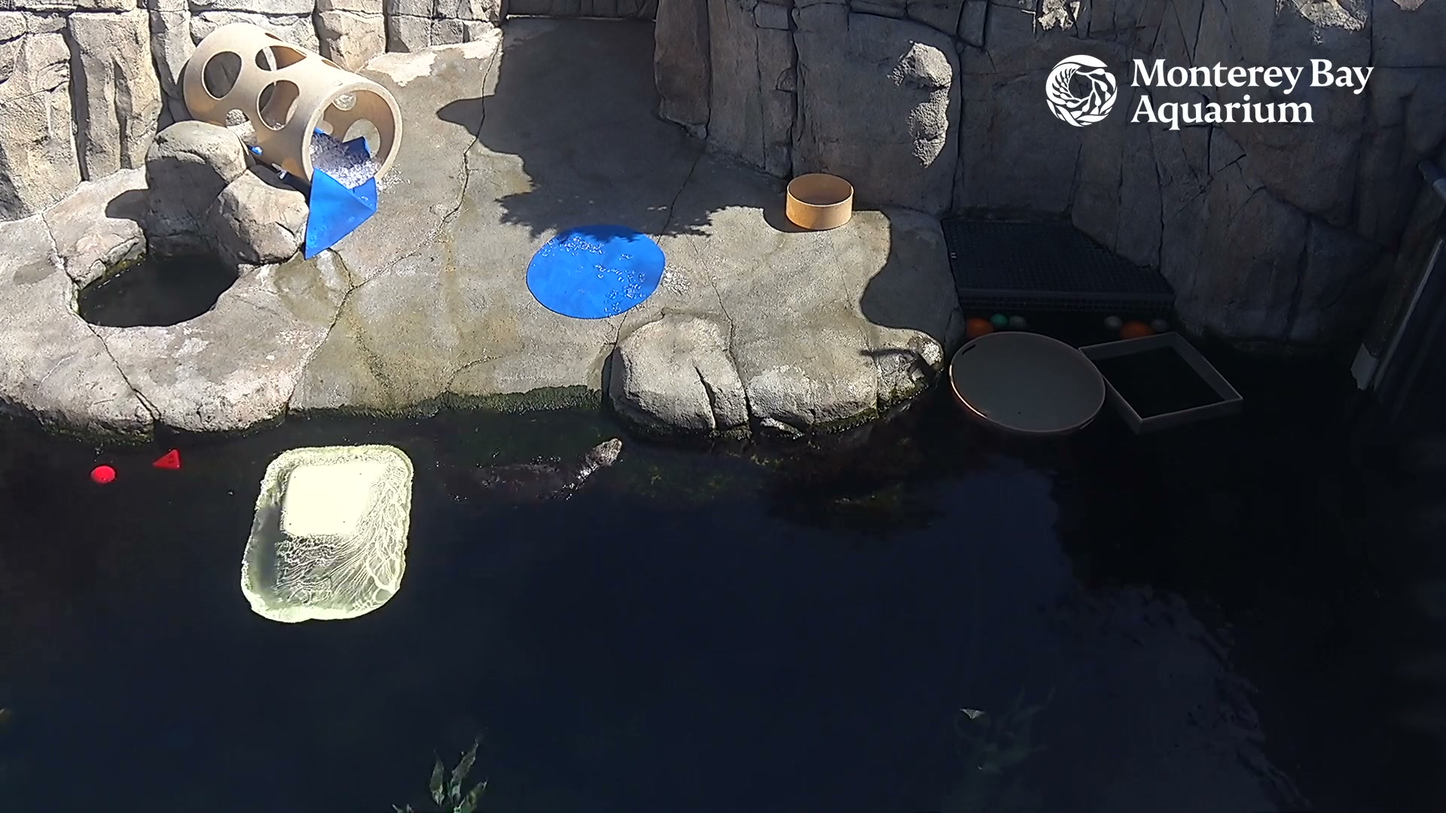Southern Sea Otter: (405, 415, 647, 519)
